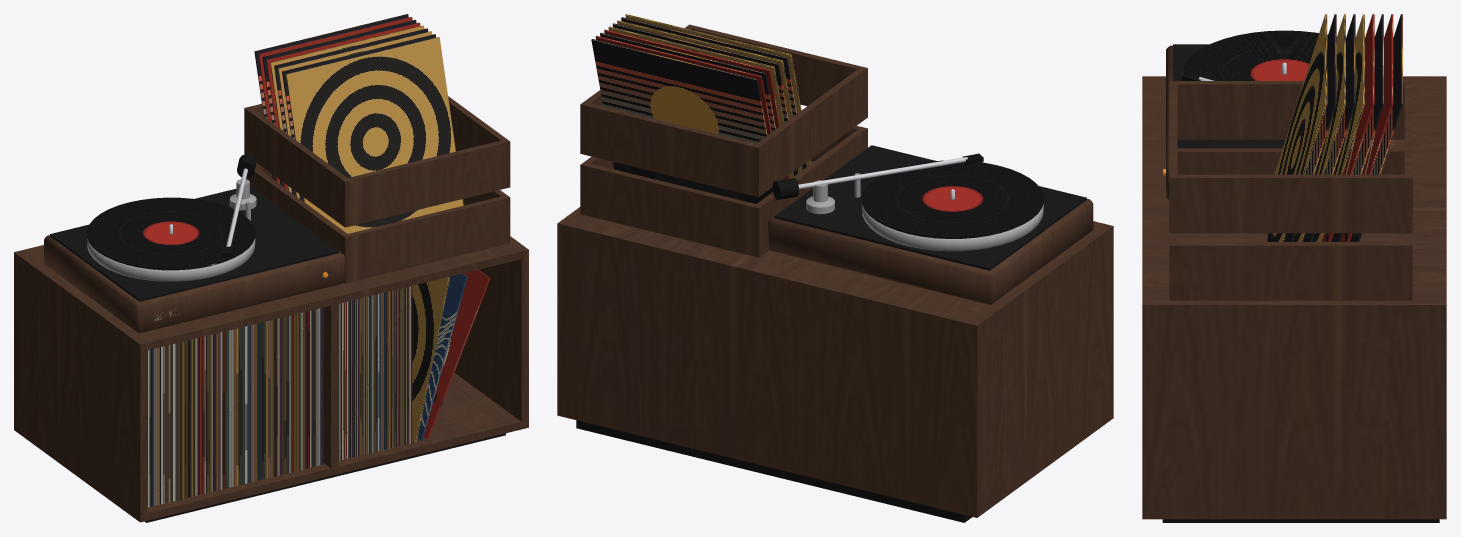
The model's file is vinyl-cabinet.glb.
3 renders of one model, left to right at view 1: azimuth 30°, elevation 25°; view 2: azimuth 150°, elevation 25°; view 3: azimuth 270°, elevation 25°, orthographic. The views are drawn at different scales.
Visible parts, largest first — view 1: vinyl_N31; view 2: vinyl_N31; view 3: vinyl_N31.
Boxes of the visible parts, left/top/right/bottom form: vinyl_N31: left=14, top=14, right=528, bottom=522; vinyl_N31: left=557, top=14, right=1113, bottom=522; vinyl_N31: left=1142, top=14, right=1446, bottom=522.
Bounding box in the file's own units: 0.8 × 0.6852 × 0.45.
Materials: 2 (2 with a texture image).
